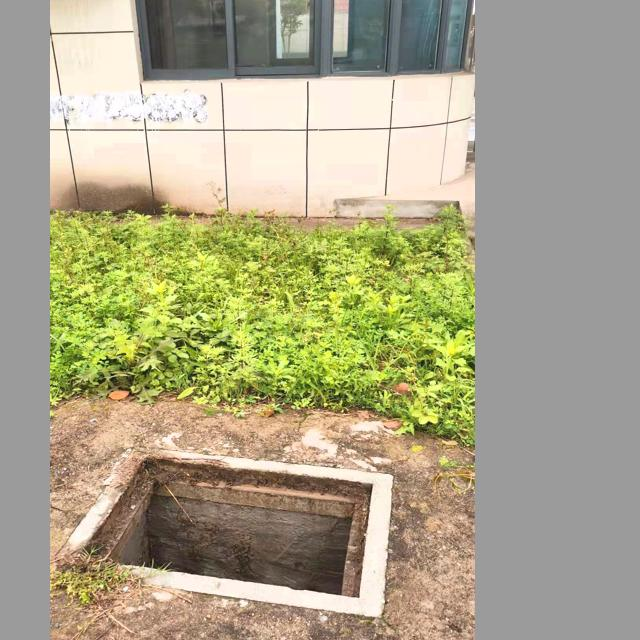lose: (56, 444, 393, 621)
